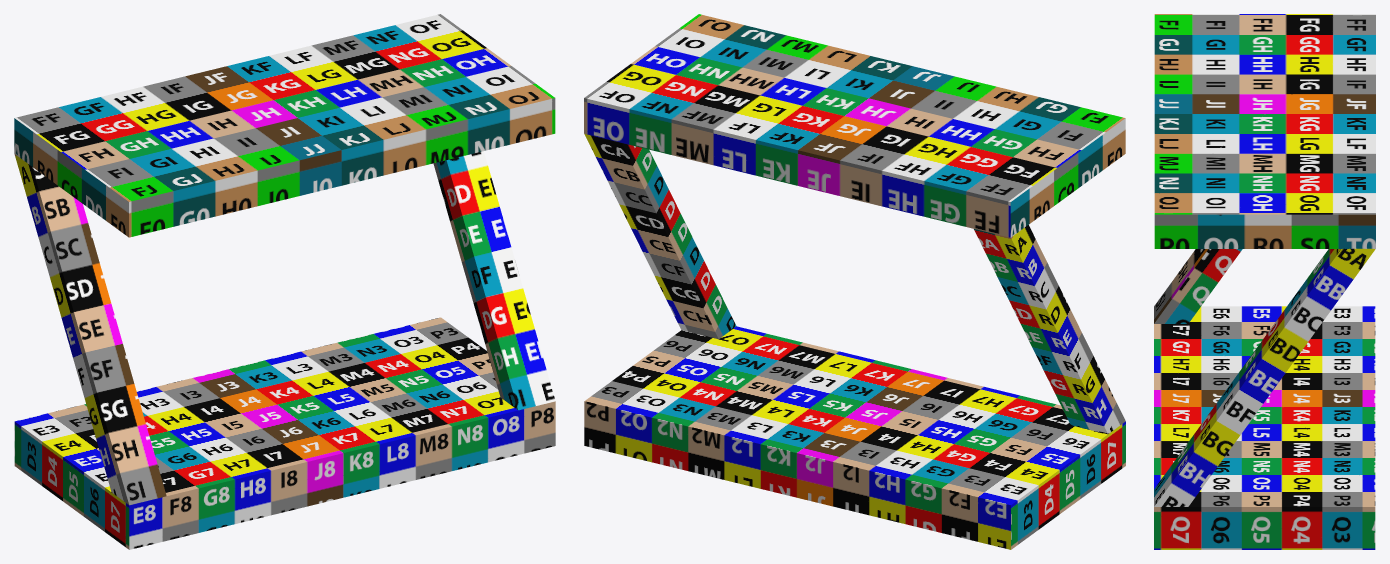
The model's file is table2.FBX.
3 views of the same model, side by side, from view 1: azimuth 30°, elevation 25°; view 2: azimuth 150°, elevation 25°; view 3: azimuth 270°, elevation 25° (orthographic). The views are drawn at different scales.
Visible parts, largest first — view 1: table2; view 2: table2; view 3: table2.
Boxes of the visible parts, x1=… form: table2: x1=14, y1=14, x2=555, y2=549; table2: x1=584, y1=14, x2=1125, y2=549; table2: x1=1154, y1=14, x2=1375, y2=549.
Bounding box in the file's own units: 1.33 × 1.03 × 0.6203.
1 material, 1 textured.
